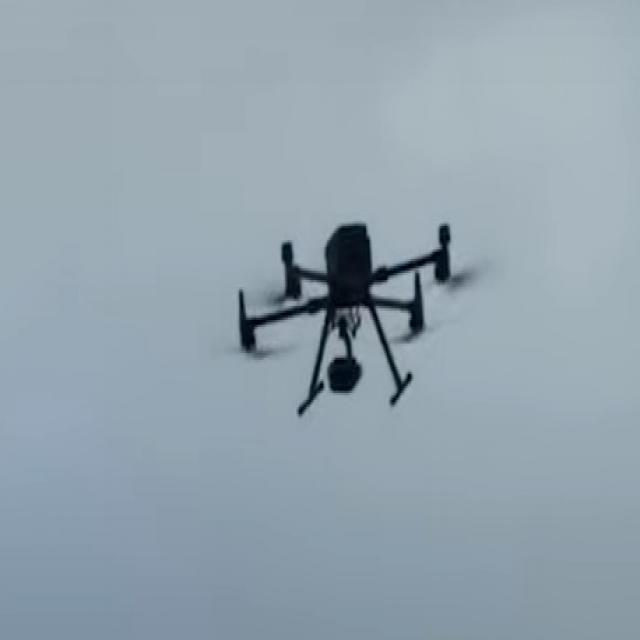drone: (210, 200, 498, 430)
